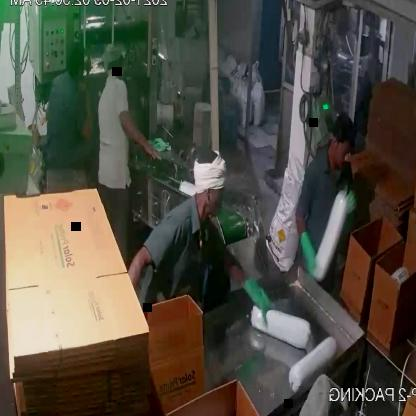glove: (240, 262, 279, 328), (297, 215, 319, 286), (336, 181, 361, 240)
no_glove: (113, 102, 164, 163), (75, 74, 99, 143)
